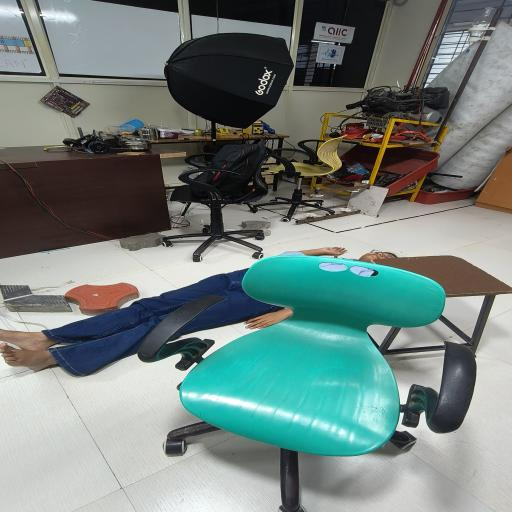survivor: (0, 246, 399, 378)
